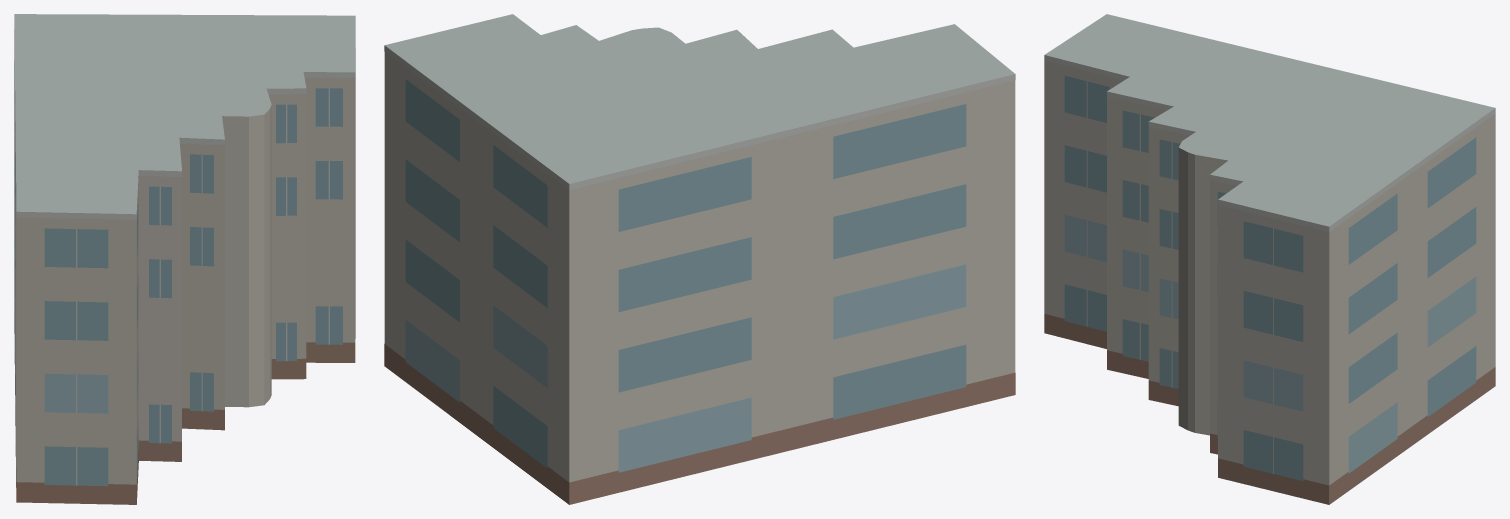
The model's file is survey-upis-32679335.glb.
The picture shows the model from 3 angles, left to right: view 1: azimuth 30°, elevation 25°; view 2: azimuth 150°, elevation 25°; view 3: azimuth 270°, elevation 25°; orthographic projection. The views are drawn at different scales.
Visible parts, largest first — view 1: survey-upis-32679335.tmp; view 2: survey-upis-32679335.tmp; view 3: survey-upis-32679335.tmp.
Boxes of the visible parts, x1,y1,x2,y2 form: survey-upis-32679335.tmp: [14, 14, 355, 504]; survey-upis-32679335.tmp: [384, 14, 1015, 504]; survey-upis-32679335.tmp: [1044, 14, 1495, 504].
Size of the model in its own units: 20.63 by 12.58 by 18.5.
